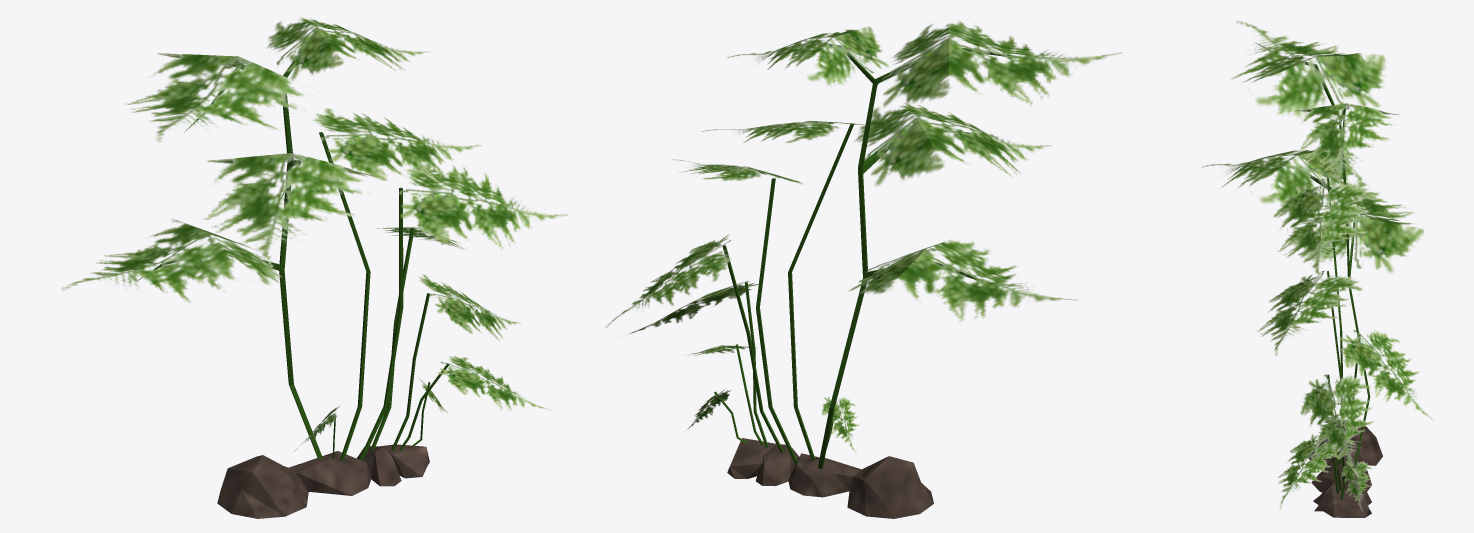
The model's file is fern.glb.
3 renders of one model, left to right at view 1: azimuth 30°, elevation 25°; view 2: azimuth 150°, elevation 25°; view 3: azimuth 270°, elevation 25°, orthographic. The views are drawn at different scales.
Parts seen in each view (by area): view 1: Fern; view 2: Fern; view 3: Fern.
Boxes of the visible parts, x1,y1,x2,y2 form: Fern: (61, 17, 567, 518); Fern: (605, 20, 1122, 518); Fern: (1201, 21, 1434, 517).
Bounding box in the file's own units: 4.5 × 3.97 × 2.84.
1 material, 1 textured.
